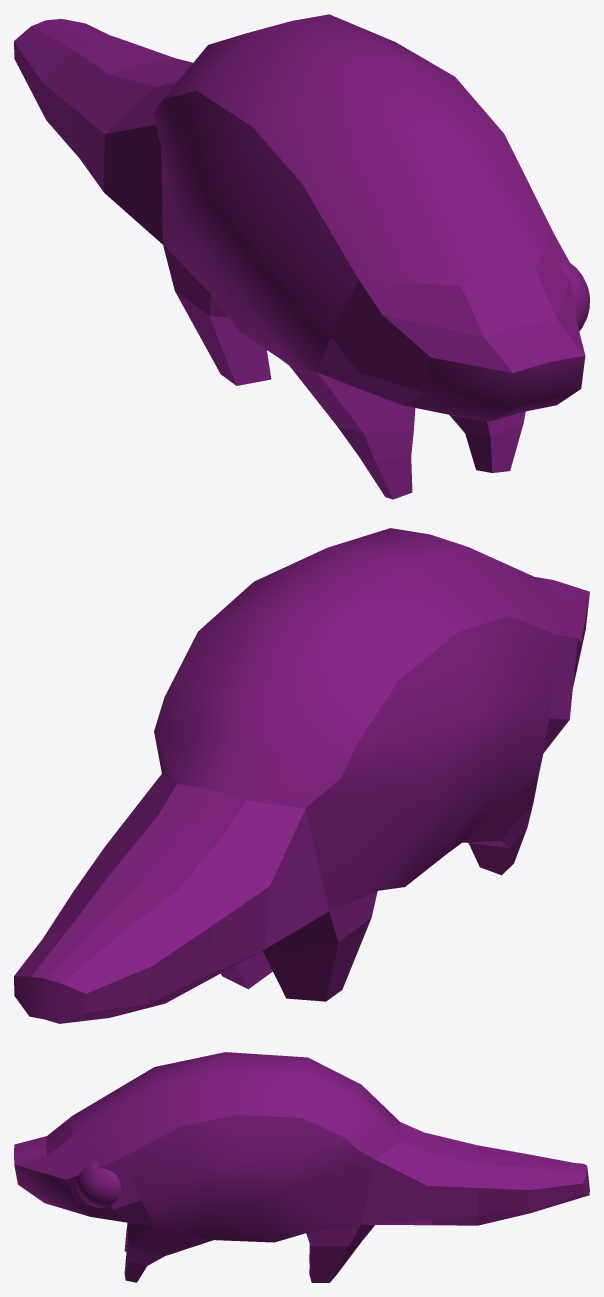
Rendered from pangolin_test.FBX.
3 renders of one model, top to bottom at view 1: azimuth 30°, elevation 25°; view 2: azimuth 150°, elevation 25°; view 3: azimuth 270°, elevation 25°, orthographic. The views are drawn at different scales.
Visible parts, largest first — view 1: Plane002; view 2: Plane002; view 3: Plane002.
Boxes of the visible parts, box(x1,y1,x2,y2) form: Plane002: box(14, 14, 589, 499); Plane002: box(14, 528, 589, 1023); Plane002: box(14, 1052, 589, 1282).
Bounding box in the file's own units: 72.57 × 95.89 × 241.
